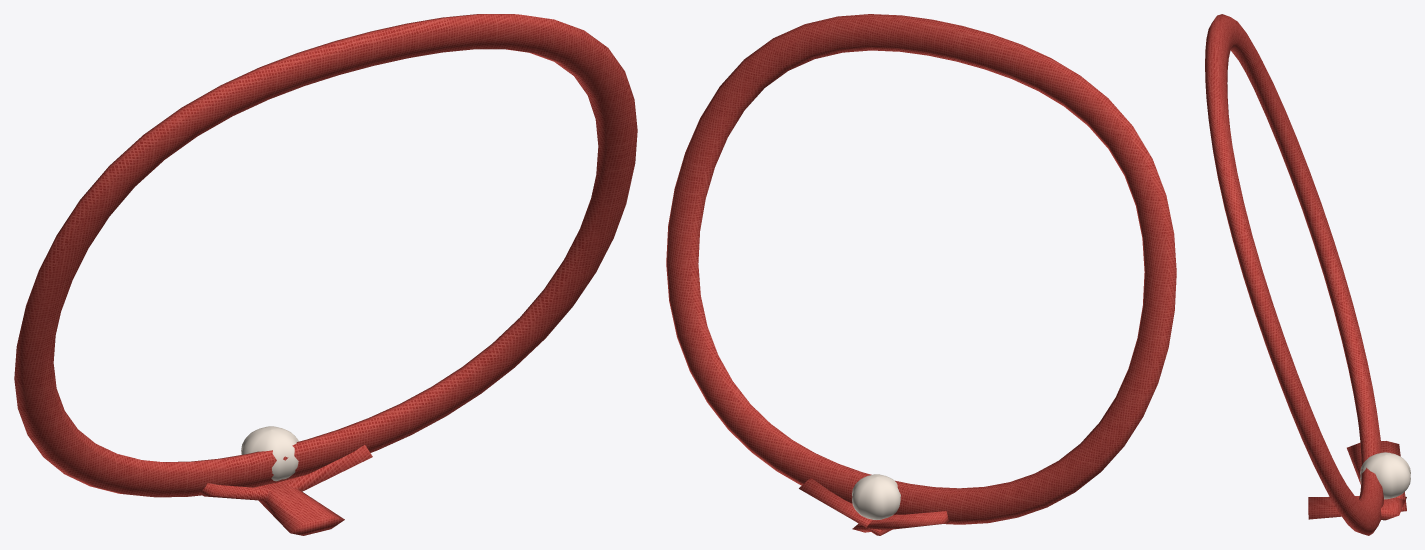
Rendered from bandana.glb.
3 views of the same model, side by side, from view 1: azimuth 30°, elevation 25°; view 2: azimuth 150°, elevation 25°; view 3: azimuth 270°, elevation 25° (orthographic). The views are drawn at different scales.
Parts seen in each view (by area): view 1: Bandana; view 2: Bandana; view 3: Bandana.
Boxes of the visible parts, bbox=[...] form: Bandana: bbox=[14, 14, 637, 535]; Bandana: bbox=[666, 14, 1176, 535]; Bandana: bbox=[1205, 14, 1410, 535].
Size of the model in its own units: 0.4425 by 0.3761 by 0.1542.
Materials: 2 (1 with a texture image).
